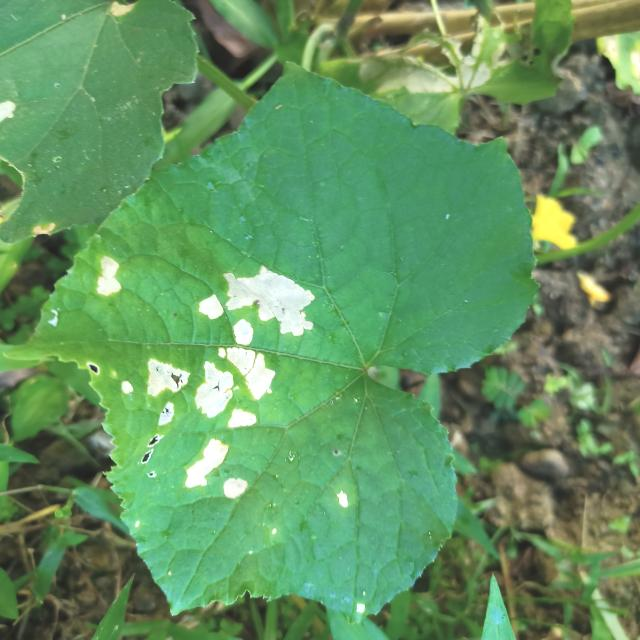disease_cucumber: (136, 261, 322, 510), (88, 252, 128, 309), (330, 484, 362, 509)
